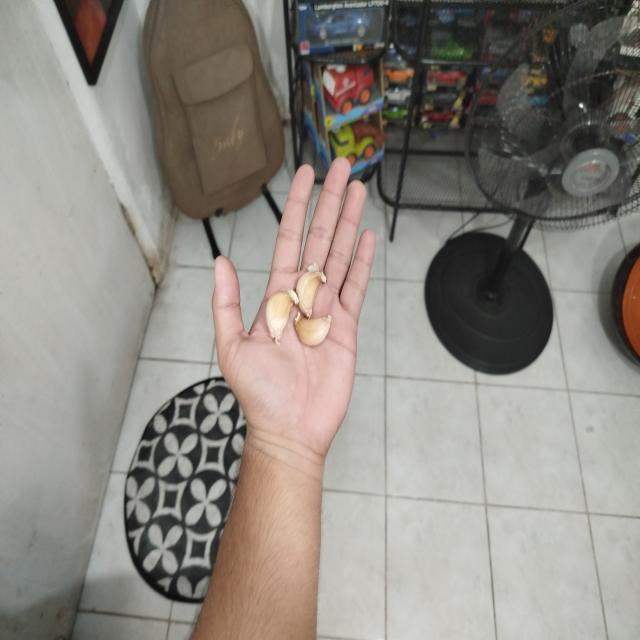garlic: (265, 288, 299, 344), (294, 312, 332, 346)
